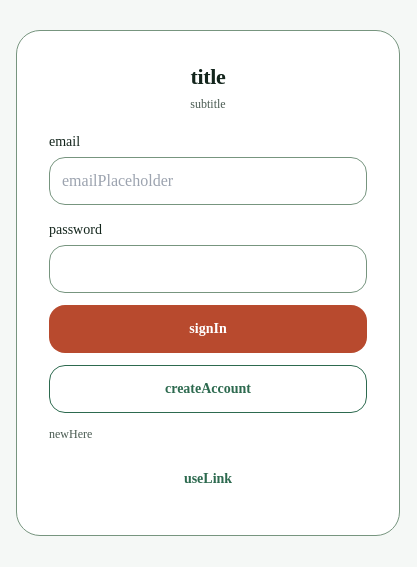
creating an account with a chosen password › asks the citizen to confirm the address when no session comes back
Click the button "createAccount". click: (208,389)
box: [49,365,367,413]
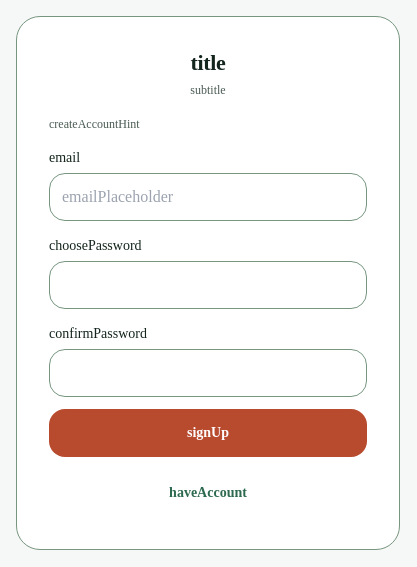
Type "new@example.lk" into the field labelled "email". click: (208,197)
box: [49,173,367,221]
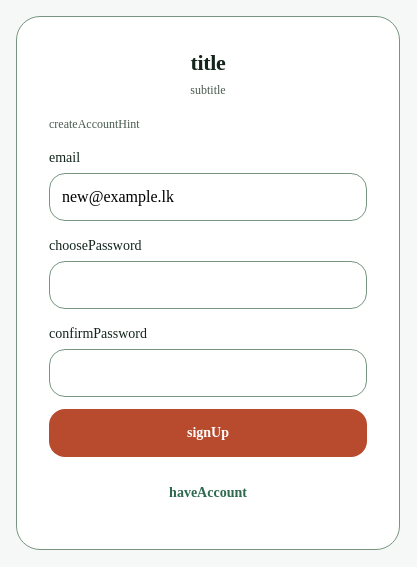
Type "correct-horse" into the password field labelled "choosePassword". click: (208,285)
box: [49,261,367,309]
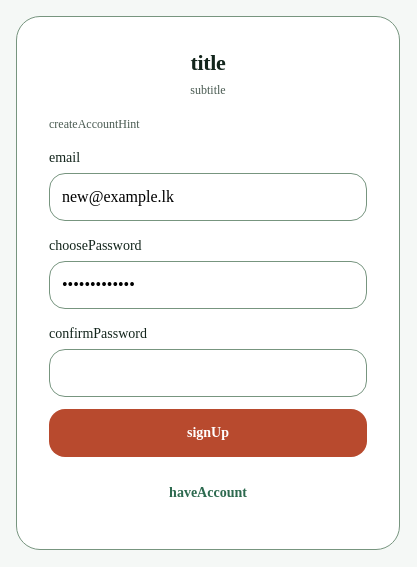
Type "correct-horse" into the password field labelled "confirmPassword". click: (208,373)
box: [49,349,367,397]
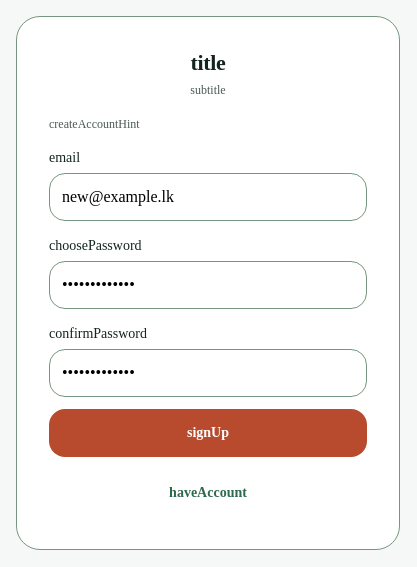
Click the button "signUp". click: (208,433)
box: [49,409,367,457]
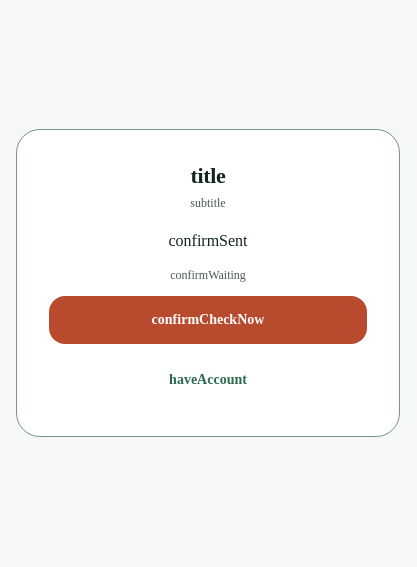
Expected: the text "confirmSent" is shown, [168,232,248,249]
